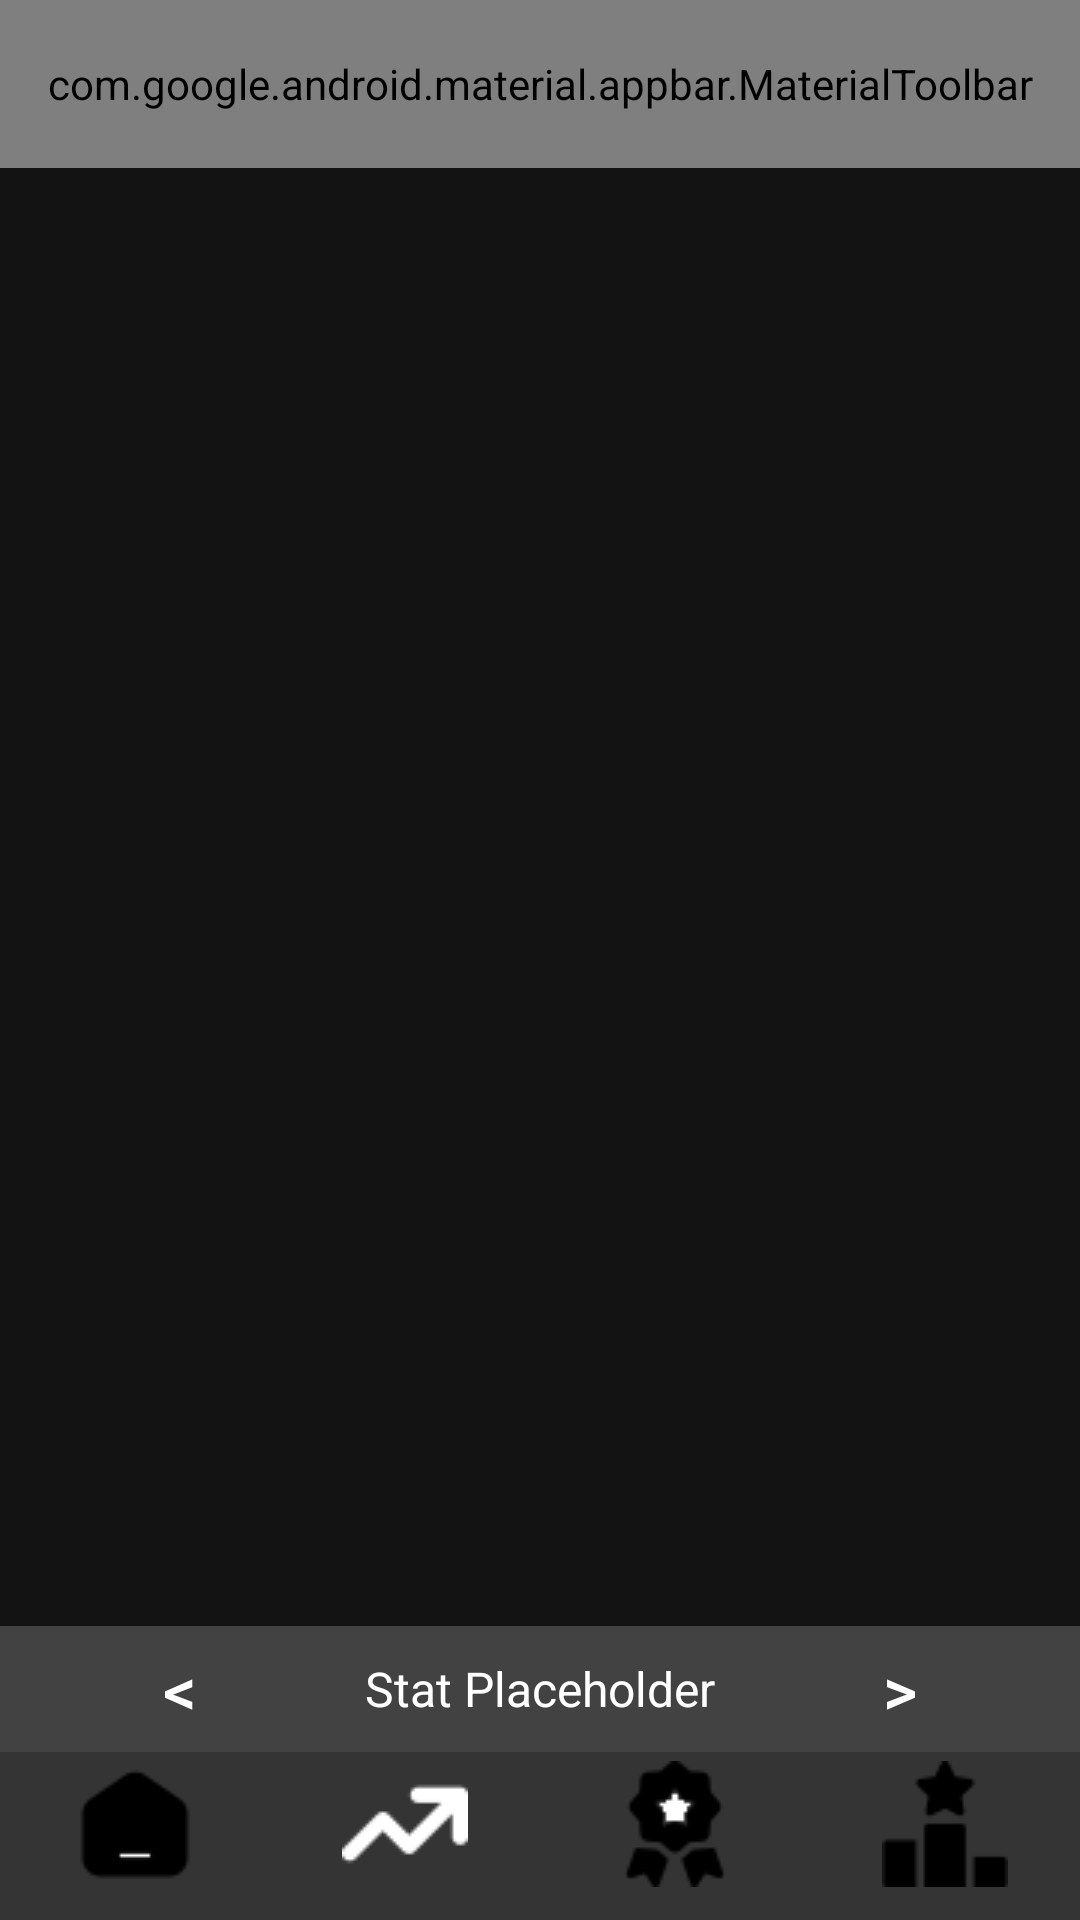

Icon bounding boxes for this 1080*1920 phone screenshot, format (x1, y1, x2, y2):
Competition screen: (882, 1761, 1008, 1887)
Goals and challenges screen: (627, 1761, 723, 1887)
Home screen: (82, 1772, 188, 1877)
statistics screen: (342, 1785, 468, 1863)
